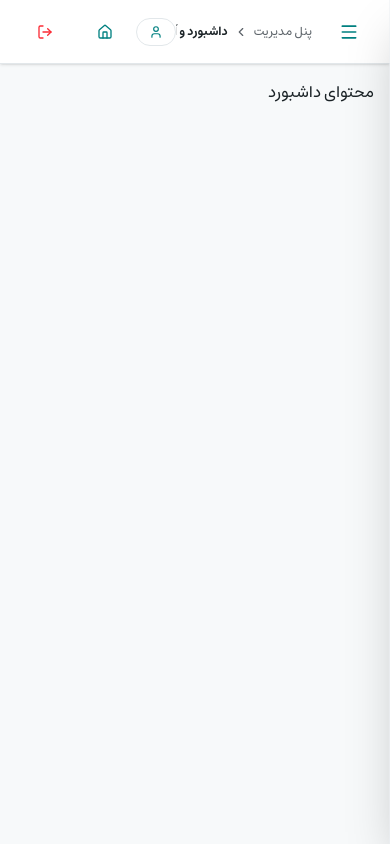
Test: Admin Shell & Navigation Architecture › Case 7 — responsive mobile navigation drawer opens, navigates, and closes on Escape
Expected: the text "محتوای داشبورد" is shown, [268, 78, 374, 106]
// Open mobile menu
Click the button named "باز کردن منوی مدیریت" at x=349, y=32, box [324, 16, 374, 48]
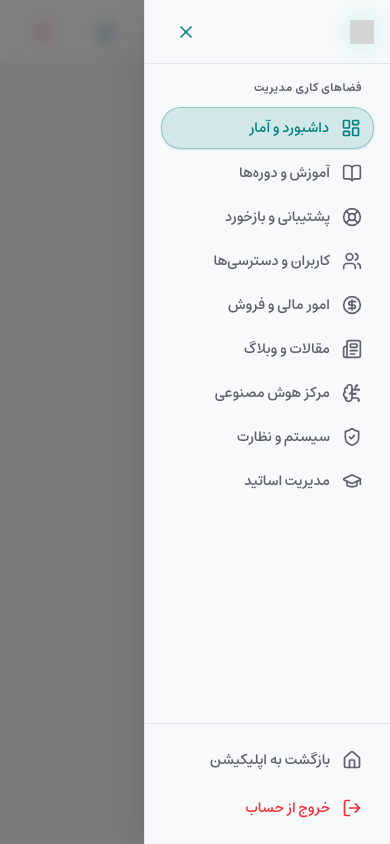
Result: the element named "ناوبری مدیریت موبایل" has class "translate-x-0"
// Close on Escape key
Press Escape
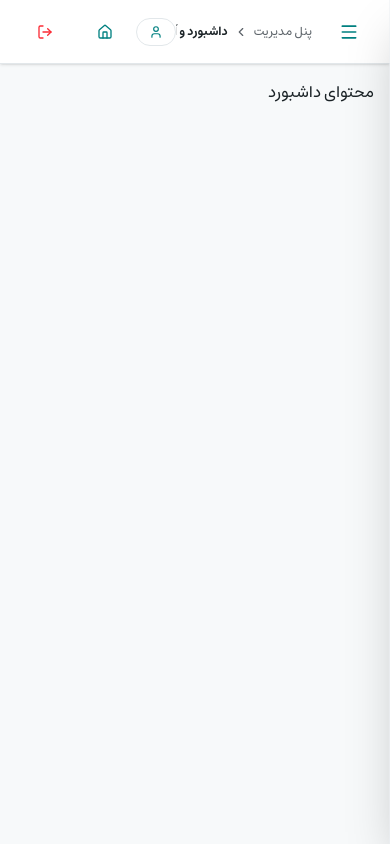
// Open again and click a link to navigate and close
Click the button named "باز کردن منوی مدیریت" at x=349, y=32, box [324, 16, 374, 48]
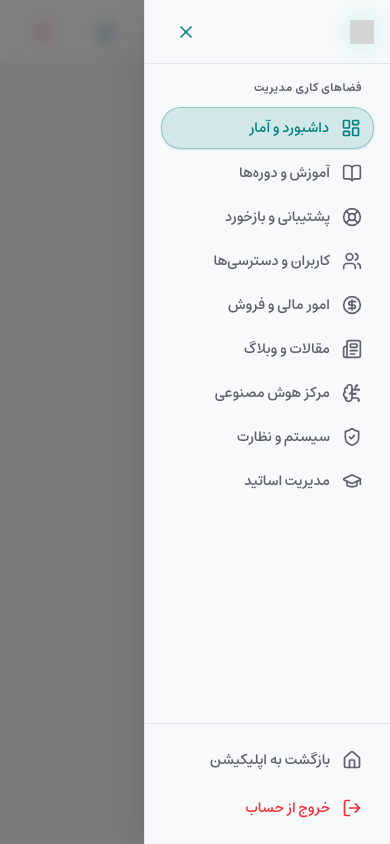
Click the link to "/admin/users" at x=288, y=260, box [213, 248, 362, 272]
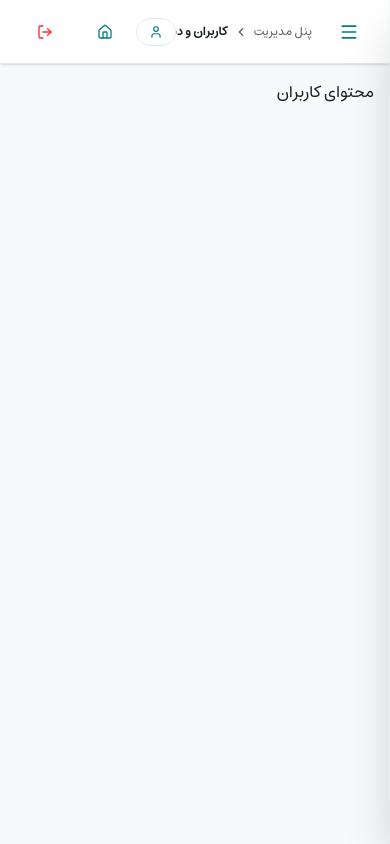
Result: the text "محتوای کاربران" is shown at [277, 78, 374, 106]
